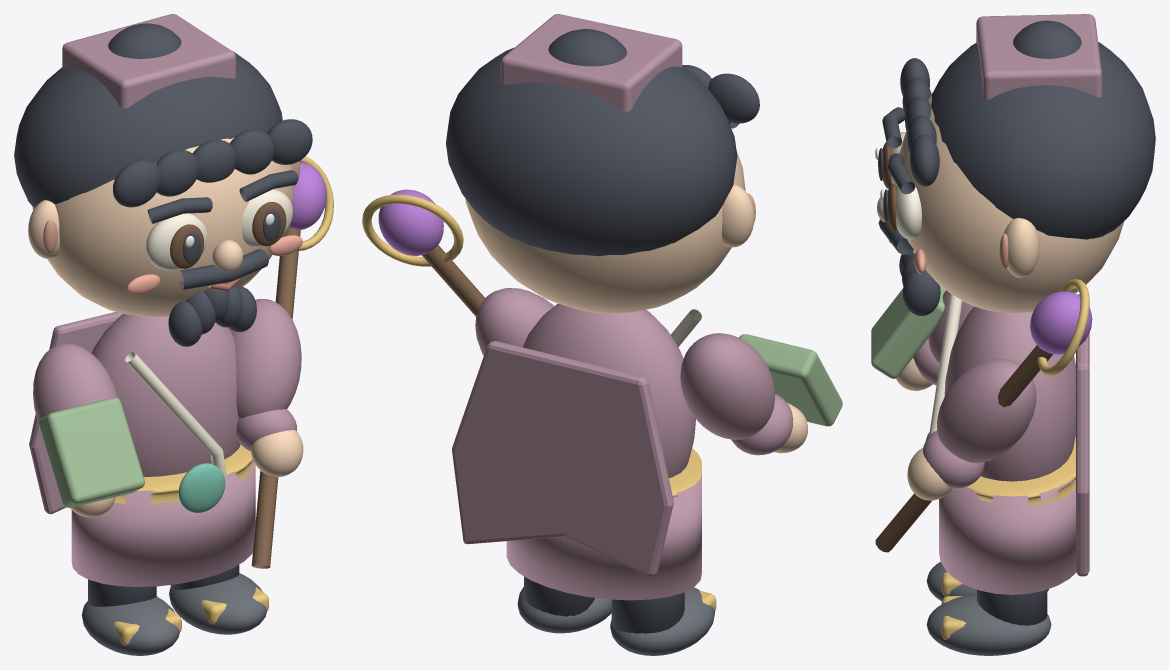
The model's file is pangtong.fbx.
The picture shows the model from 3 angles, left to right: view 1: azimuth 30°, elevation 25°; view 2: azimuth 150°, elevation 25°; view 3: azimuth 270°, elevation 25°; orthographic projection. The views are drawn at different scales.
Visible parts, largest first — view 1: hair_mass, face, body, robe_skirt, medicine_book, scholar_crown, sleeve, sleeve.001, boot, boot.001, spell_staff, cape (+34 smaller); view 2: hair_mass, cape, face, body, robe_skirt, scholar_crown, sleeve.001, medicine_book, sleeve, boot, spell_gem, leg (+10 smaller); view 3: hair_mass, face, robe_skirt, body, scholar_crown, sleeve, boot.001, medicine_book, cape, spell_gem, spell_staff, belt (+22 smaller).
Part boxes in pixels (x1,y1,x2,y2): hair_mass: (14, 51, 282, 207); face: (32, 137, 294, 317); body: (91, 313, 240, 476); robe_skirt: (71, 459, 255, 586); medicine_book: (39, 398, 144, 507); scholar_crown: (62, 14, 236, 108); sleeve: (228, 299, 301, 419); sleeve.001: (33, 343, 118, 423); boot: (81, 596, 179, 655); boot.001: (169, 573, 266, 634); spell_staff: (251, 227, 300, 568); cape: (29, 312, 122, 514); hair_mass: (446, 48, 737, 256); cape: (452, 341, 673, 576); face: (465, 151, 745, 313); body: (523, 303, 695, 477); robe_skirt: (506, 472, 701, 600); scholar_crown: (500, 14, 682, 111); sleeve.001: (680, 333, 775, 439); medicine_book: (739, 334, 842, 426); sleeve: (475, 288, 553, 355); boot: (610, 587, 714, 655); spell_gem: (378, 189, 443, 255); leg: (611, 592, 684, 633); hair_mass: (931, 42, 1155, 239); face: (896, 92, 1124, 313); robe_skirt: (939, 477, 1076, 594); body: (944, 306, 1075, 481); scholar_crown: (976, 14, 1102, 99); sleeve: (937, 358, 1036, 463); boot.001: (926, 594, 1051, 655); medicine_book: (871, 286, 945, 378); cape: (1076, 294, 1089, 576); spell_gem: (1030, 291, 1092, 354); spell_staff: (875, 345, 1053, 552); belt: (957, 436, 1075, 507).
Bounding box in the file's own units: 1.55 × 2.44 × 1.05.
